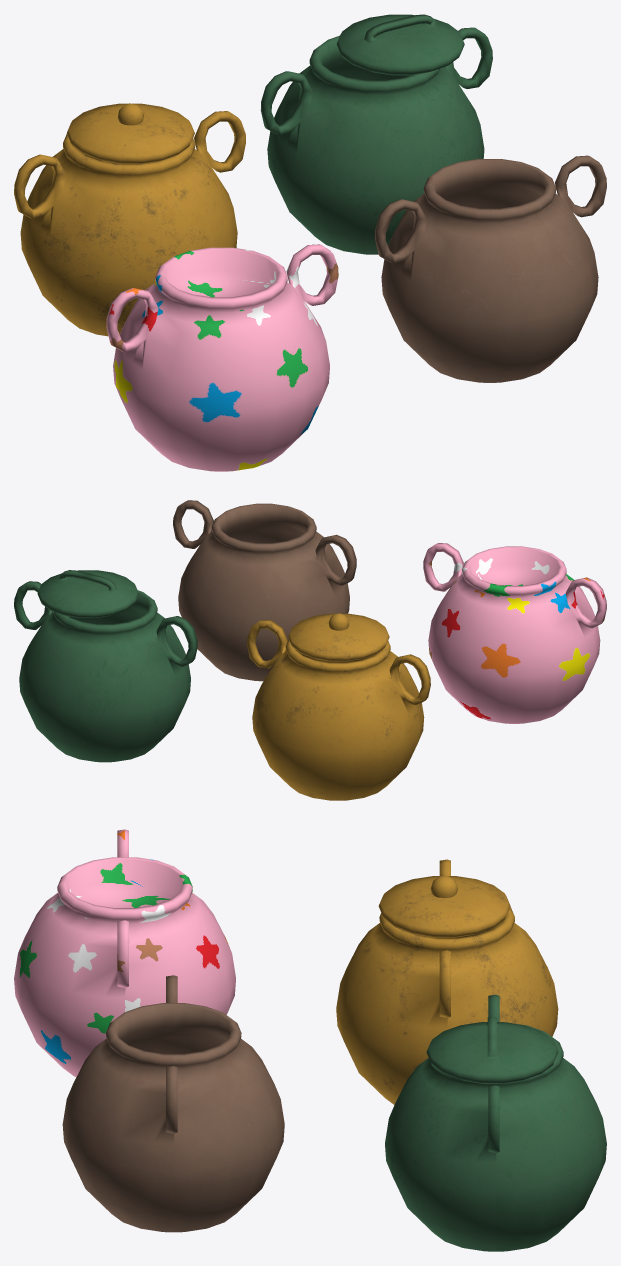
File: Vase.fbx
The picture shows the model from 3 angles, top to bottom: view 1: azimuth 30°, elevation 25°; view 2: azimuth 150°, elevation 25°; view 3: azimuth 270°, elevation 25°; orthographic projection. The views are drawn at different scales.
Parts seen in each view (by area): view 1: Vase.001, Vase.003, Vase.002, Vase, Tampa B, Tampa A; view 2: Vase.001, Vase.002, Vase, Vase.003, Tampa A, Tampa B; view 3: Vase.003, Vase.002, Vase.001, Vase, Tampa B, Tampa A.
Boxes of the visible parts, <box> form: Vase.001: <box>106,244,338,471</box>; Vase.003: <box>375,155,606,382</box>; Vase.002: <box>260,27,492,254</box>; Vase: <box>14,111,245,336</box>; Tampa B: <box>336,14,464,75</box>; Tampa A: <box>67,103,194,163</box>; Vase.001: <box>423,543,606,723</box>; Vase.002: <box>14,581,197,762</box>; Vase: <box>247,619,430,800</box>; Vase.003: <box>173,500,356,681</box>; Tampa A: <box>288,613,389,661</box>; Tampa B: <box>37,570,138,617</box>; Vase.003: <box>62,975,284,1232</box>; Vase.002: <box>385,994,606,1251</box>; Vase.001: <box>14,829,235,1076</box>; Vase: <box>336,859,558,1104</box>; Tampa B: <box>426,1017,558,1083</box>; Tampa A: <box>378,876,510,937</box>.
Bounding box in the file's own units: 1765 × 663 × 1571.
Materials: 4 (4 with a texture image).
